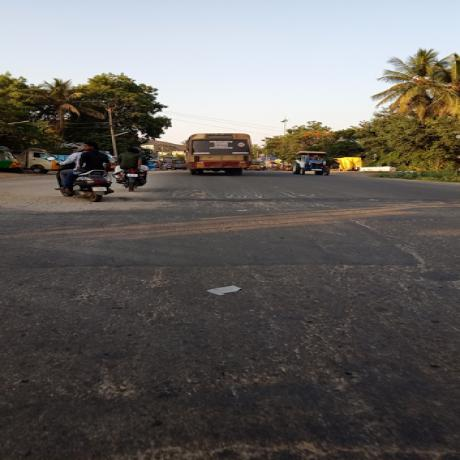Speed Bump: (132, 196, 457, 203)
